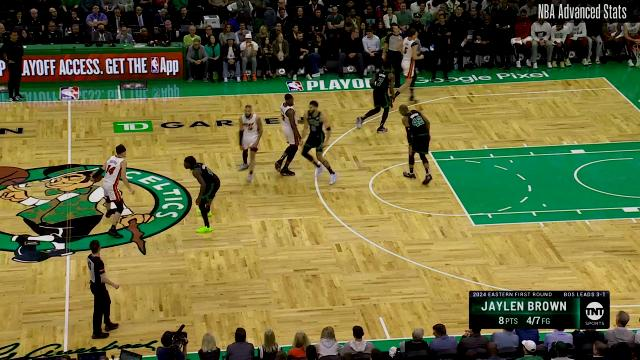3_sx: (608, 84, 618, 92)
b_sx: (599, 74, 609, 82)
free_adx: (467, 220, 481, 230)
free_asx: (425, 147, 435, 157)
mid_dx: (380, 332, 396, 346)
mid_sx: (114, 94, 126, 106), (287, 91, 293, 95)
referee: (86, 241, 122, 339), (385, 26, 407, 86)
team: (101, 144, 135, 238), (274, 94, 300, 174), (396, 28, 422, 103), (237, 105, 260, 184)
team1: (302, 100, 338, 185), (184, 155, 220, 237), (357, 61, 395, 135), (398, 105, 432, 185)
